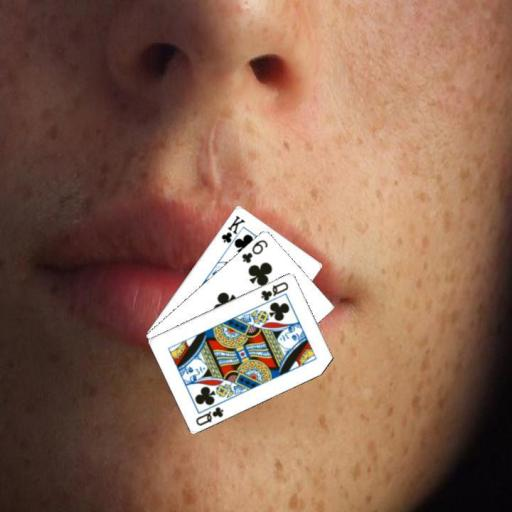6C: (238, 236, 270, 265)
KC: (218, 212, 247, 250)
QC: (258, 278, 290, 302), (193, 403, 225, 427)
